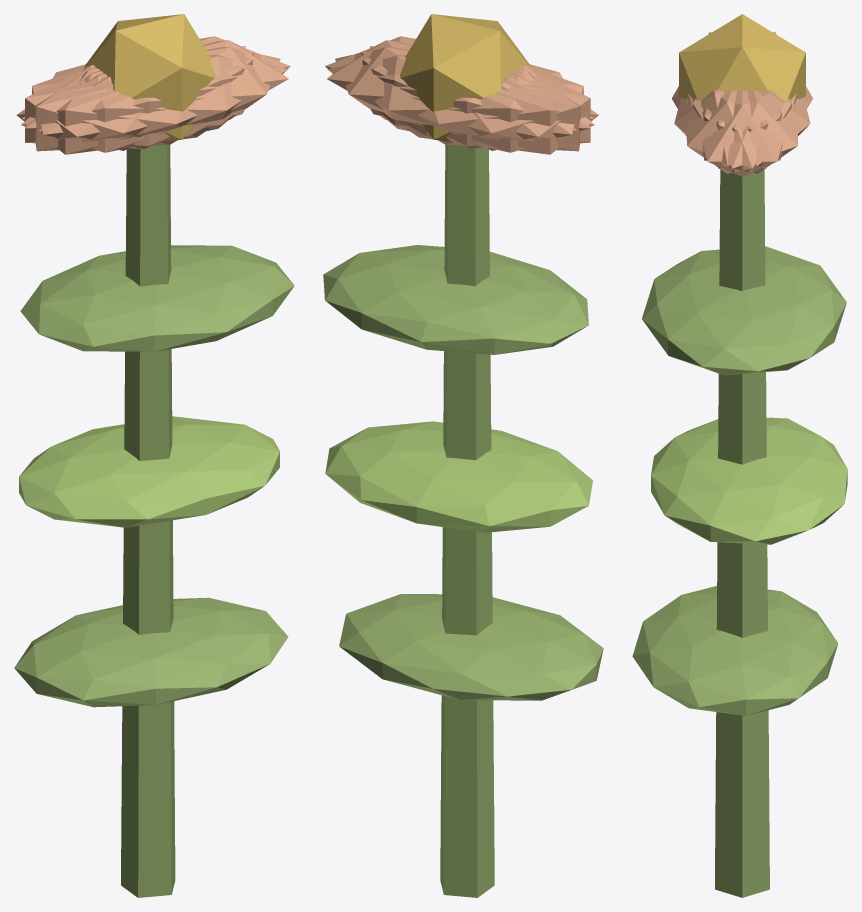
File: hevea-brasiliensis.glb
3 renders of one model, left to right at view 1: azimuth 30°, elevation 25°; view 2: azimuth 150°, elevation 25°; view 3: azimuth 270°, elevation 25°, orthographic.
Visible parts, largest first — view 1: stem, leaf0, leaf2, leaf1, center, petal1, petal6, petal2, petal5, petal7, petal0, petal4 (+2 smaller); view 2: stem, leaf1, leaf2, leaf0, center, petal8, petal3, petal7, petal4, petal2, petal0, petal5 (+2 smaller); view 3: stem, leaf2, leaf1, leaf0, center, petal0, petal5, petal4, petal1, petal8.
Boxes of the visible parts, x1,y1,x2,y2 form: stem: (121,144,175,897); leaf0: (14,597,288,707); leaf2: (20,245,294,351); leaf1: (19,416,279,527); center: (84,14,215,141); petal1: (21,54,287,152); petal6: (16,66,209,154); petal2: (35,46,245,151); petal5: (39,47,280,145); petal7: (25,51,253,148); petal0: (84,40,288,136); petal4: (22,36,290,128); stem: (440,144,494,897); leaf1: (325,421,592,532); leaf2: (323,245,588,354); leaf0: (339,594,603,700); center: (400,14,531,141); petal8: (327,54,594,152); petal3: (405,66,598,154); petal7: (370,46,580,151); petal4: (335,47,576,145); petal2: (362,51,590,148); petal0: (327,40,531,136); petal5: (325,36,593,128); stem: (715,169,769,897); leaf2: (642,246,846,375); leaf1: (651,417,847,544); leaf0: (632,586,838,715); center: (679,14,805,100); petal0: (688,90,796,176); petal5: (686,90,791,173); petal4: (693,90,798,173); petal1: (674,90,782,166); petal8: (702,90,810,166).
Size of the model in its own units: 0.1452 by 0.4556 by 0.1039.
